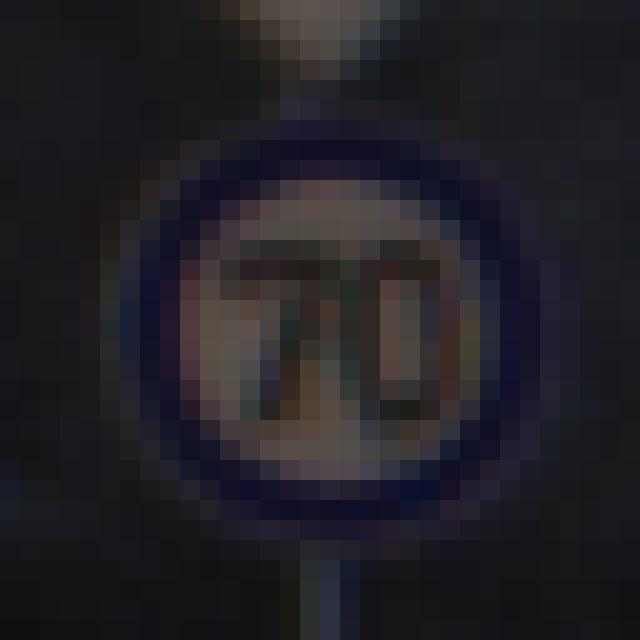SPEED LIMIT 70: (113, 137, 541, 520)
